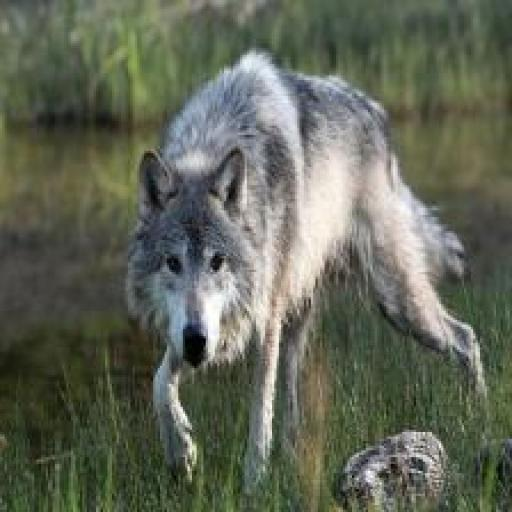wolf: (116, 43, 511, 512)
